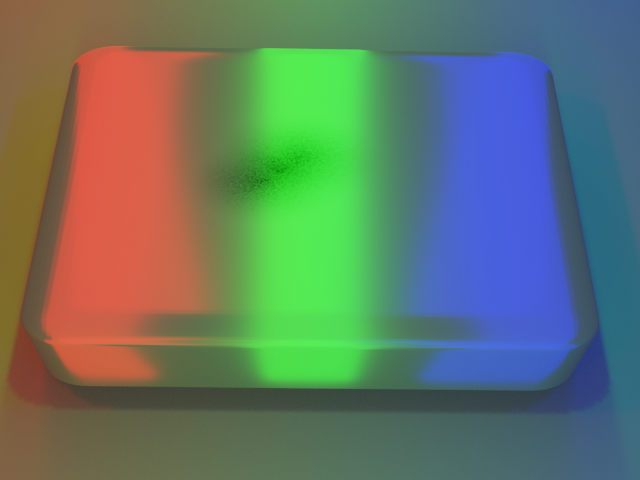stain: (148, 89, 397, 225)
